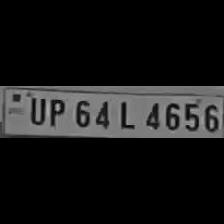4: (139, 99, 163, 129), (92, 98, 112, 128)
5: (181, 99, 199, 130)
6: (69, 96, 91, 128), (160, 99, 180, 130), (202, 101, 218, 133)
L: (113, 97, 137, 129)
P: (44, 96, 66, 128)
U: (26, 95, 44, 125)
